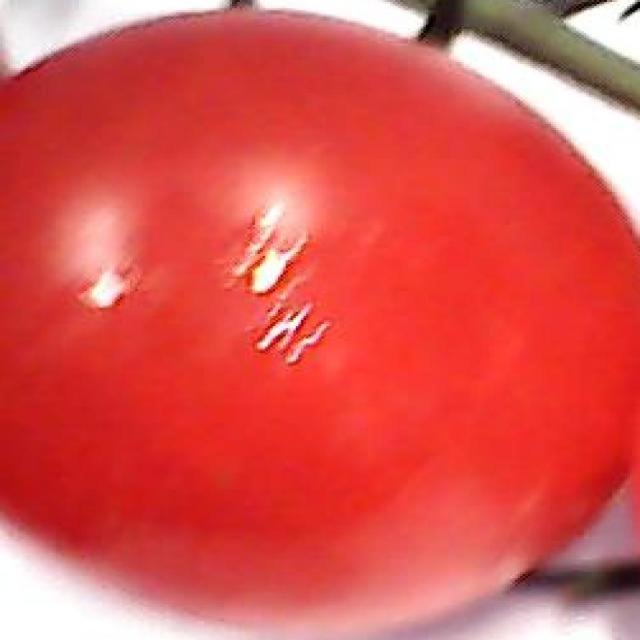Healthy Fruit: (3, 6, 427, 427)
